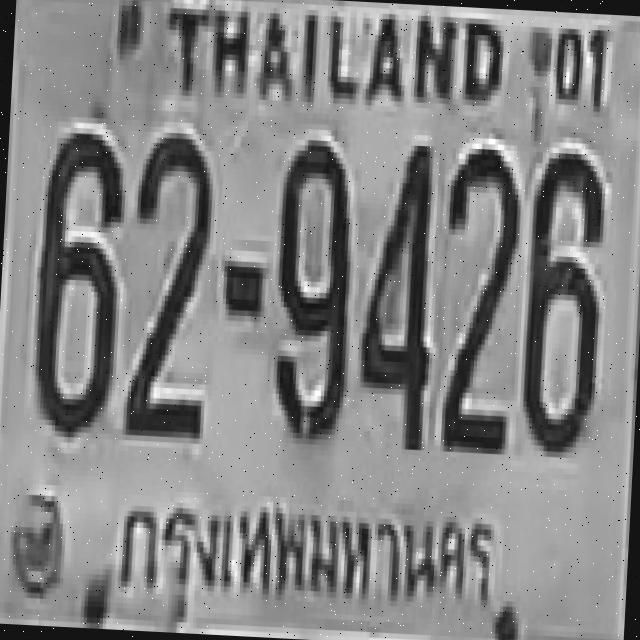2: (121, 128, 214, 436), (434, 144, 521, 452)
4: (354, 138, 437, 445)
6: (28, 126, 124, 434), (518, 146, 604, 454)
9: (267, 134, 357, 440)
Bangkok: (103, 478, 510, 632)
